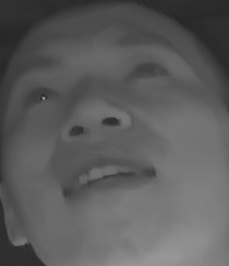eye: (119, 58, 170, 86), (20, 80, 62, 108)
mouth: (57, 149, 157, 208)
